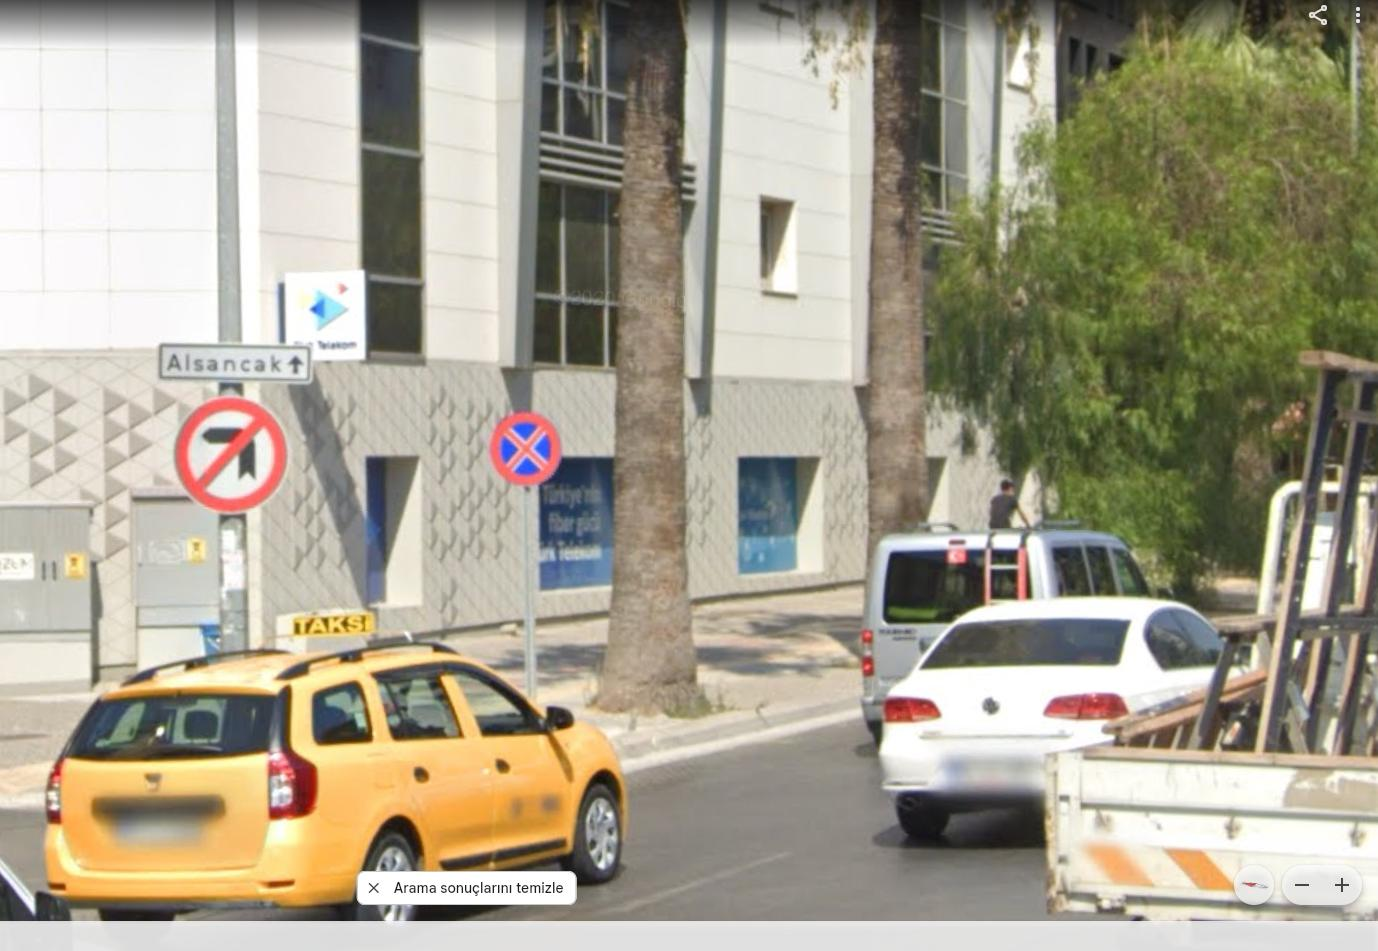leftturnsareforbidden: (173, 403, 283, 507)
